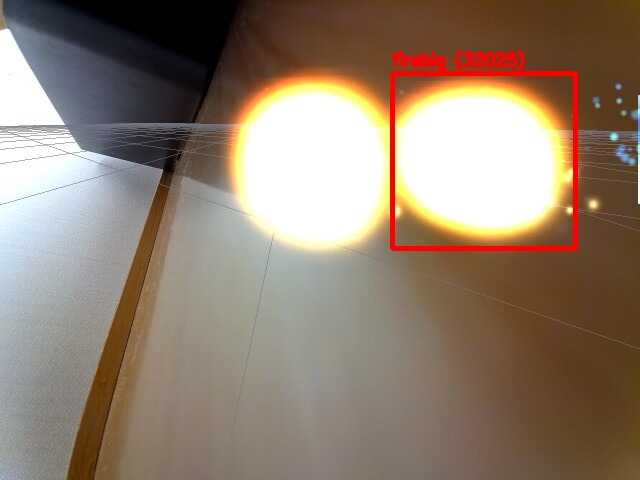firebig: (392, 73, 575, 248)
